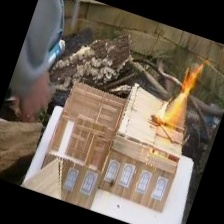fire: (159, 64, 207, 135)
